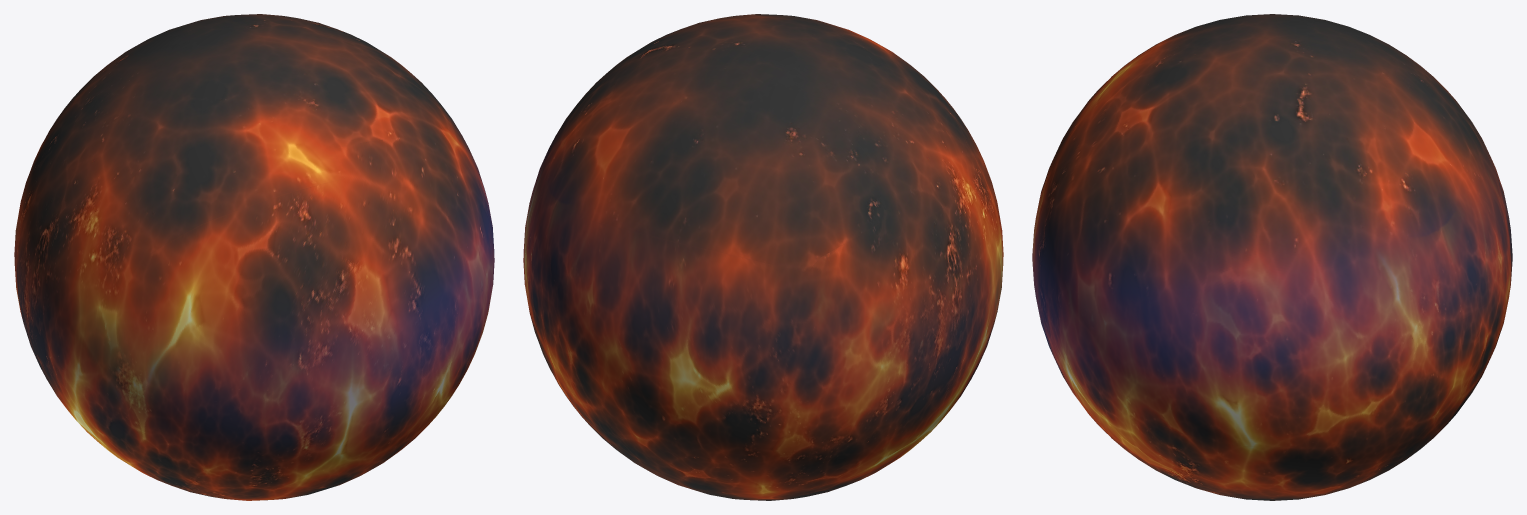
Rendered from ball1.glb.
3 renders of one model, left to right at view 1: azimuth 30°, elevation 25°; view 2: azimuth 150°, elevation 25°; view 3: azimuth 270°, elevation 25°, orthographic.
Size of the model in its own units: 0.3484 by 0.3543 by 0.3484.
Materials: 1 (1 with a texture image).
